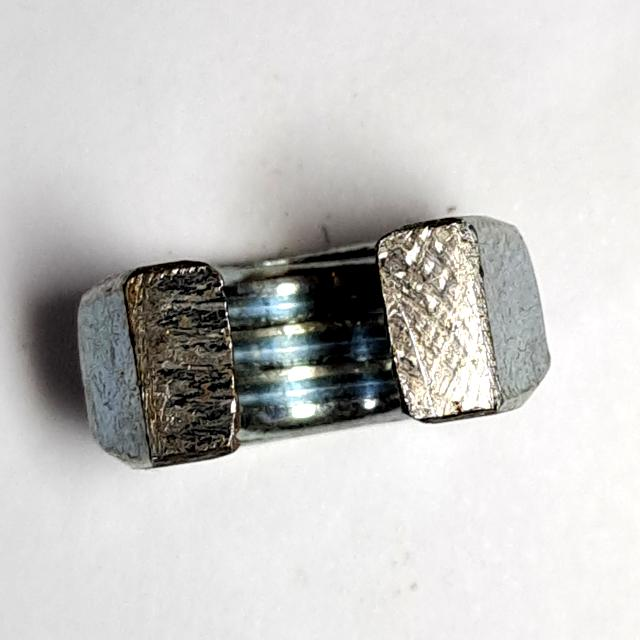Side-Fracture: (68, 207, 559, 483)
